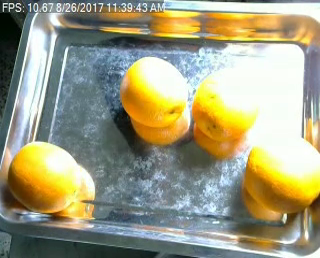Orange: (8, 141, 80, 212)
